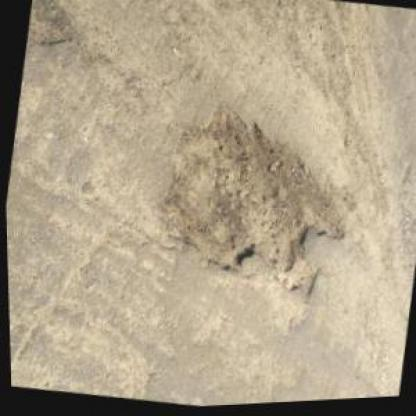pothole: (143, 90, 366, 314), (22, 0, 85, 60)
